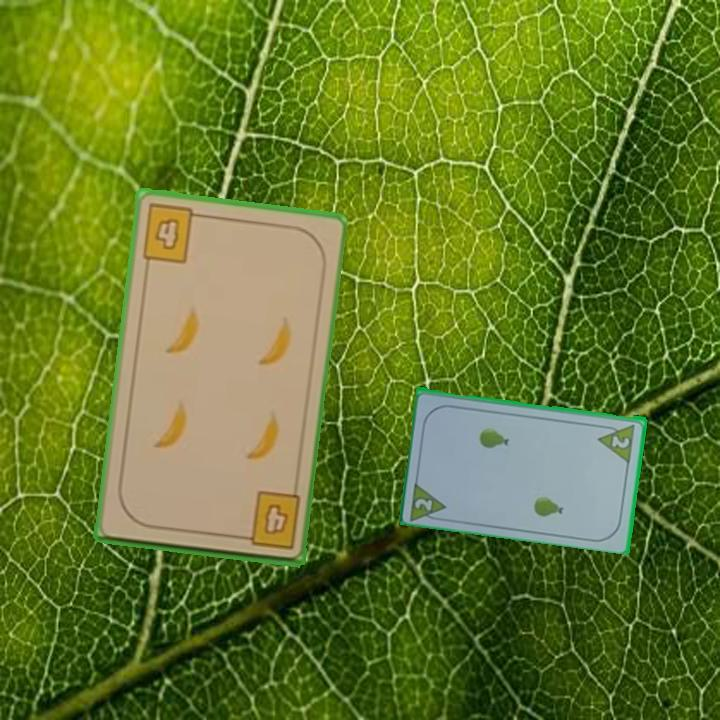2p: (595, 420, 638, 464), (411, 494, 436, 513)
4b: (138, 200, 206, 266), (234, 488, 304, 552)
